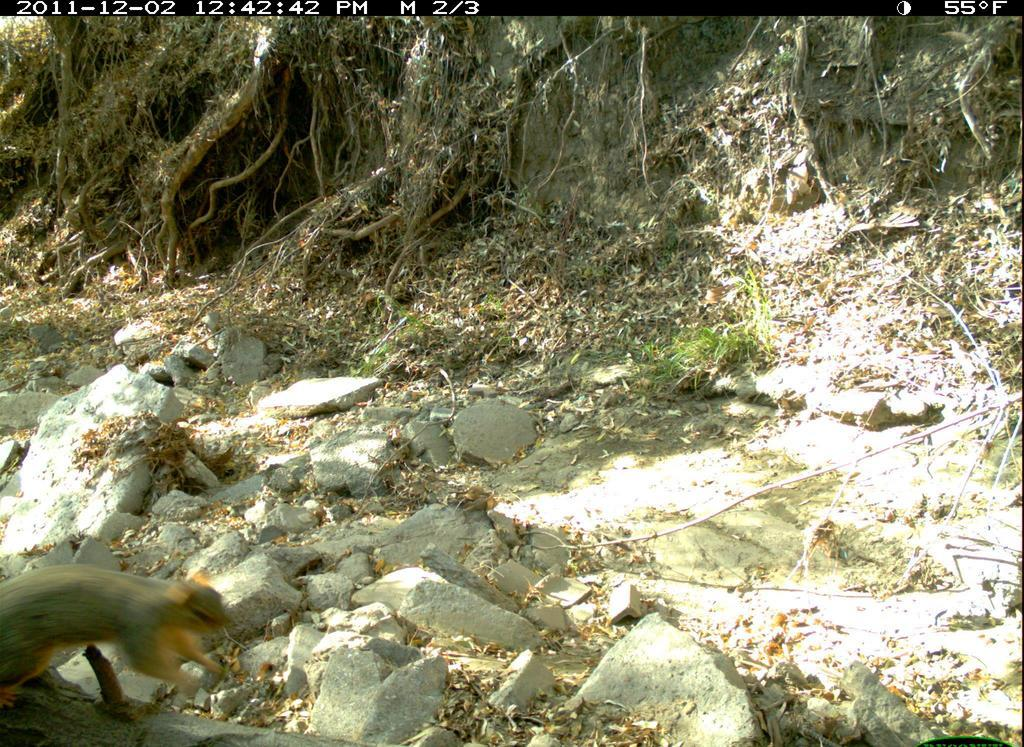squirrel: (1, 561, 248, 720)
